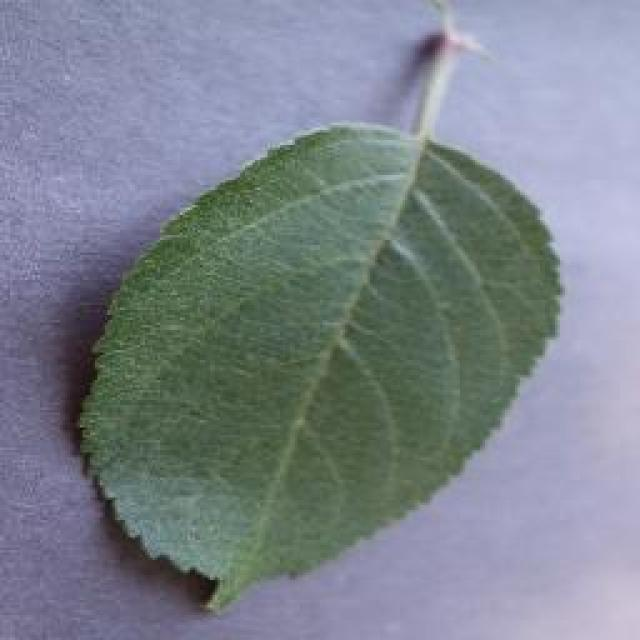apple healthy: (73, 0, 565, 615)
